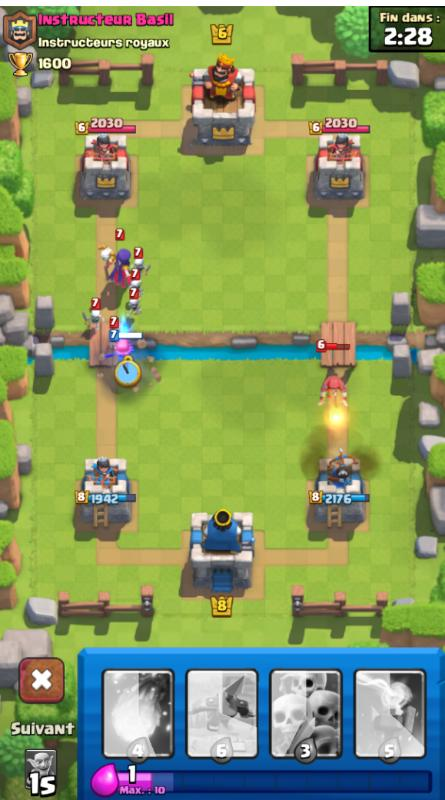squelette: (117, 276, 153, 297), (123, 257, 154, 281), (79, 305, 106, 331), (118, 293, 142, 320)
valkyrie: (101, 335, 151, 386)
